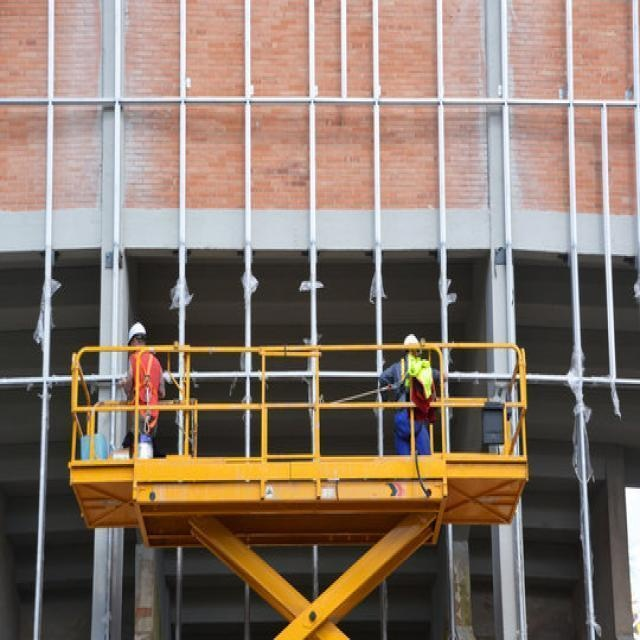Arnes_seguridad: (129, 347, 162, 433), (401, 353, 434, 413)
